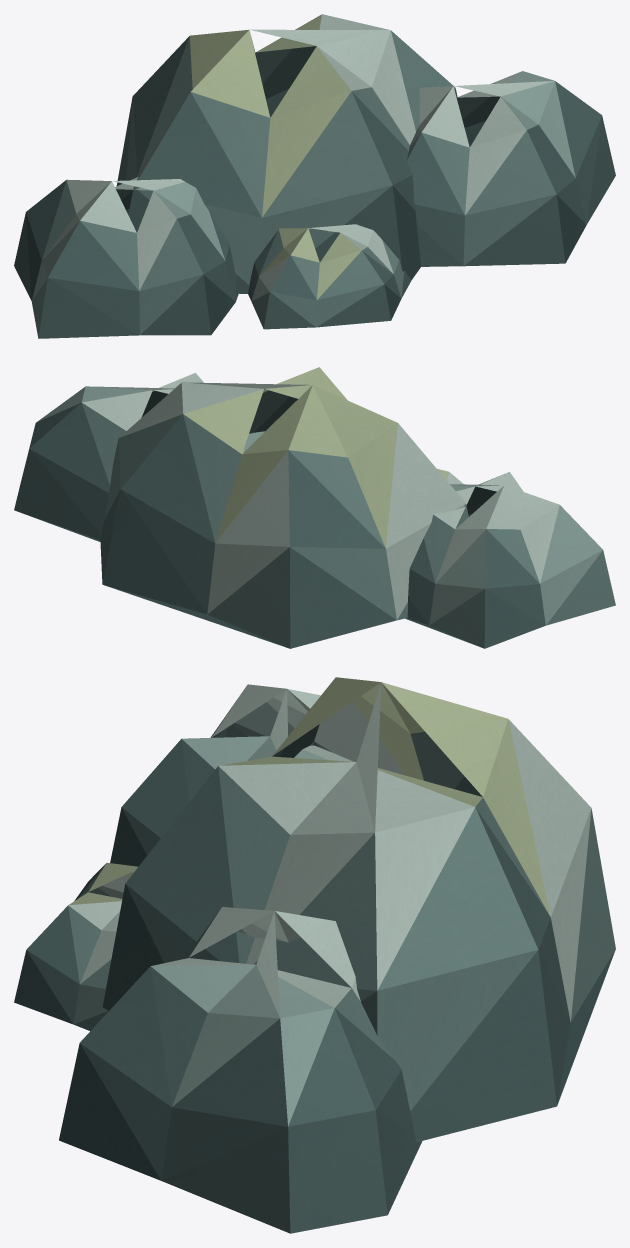
File: 03_shore_rock_B.obj
The picture shows the model from 3 angles, top to bottom: view 1: azimuth 30°, elevation 25°; view 2: azimuth 150°, elevation 25°; view 3: azimuth 270°, elevation 25°; orthographic projection. The views are drawn at different scales.
Visible parts, largest first — view 1: Shore_Rock_B; view 2: Shore_Rock_B; view 3: Shore_Rock_B.
Boxes of the visible parts, <box> form: Shore_Rock_B: <box>14,14,615,338</box>; Shore_Rock_B: <box>14,367,615,648</box>; Shore_Rock_B: <box>14,677,615,1233</box>.
Size of the model in its own units: 1.59 by 0.52 by 0.9245.
Materials: 1 (1 with a texture image).
